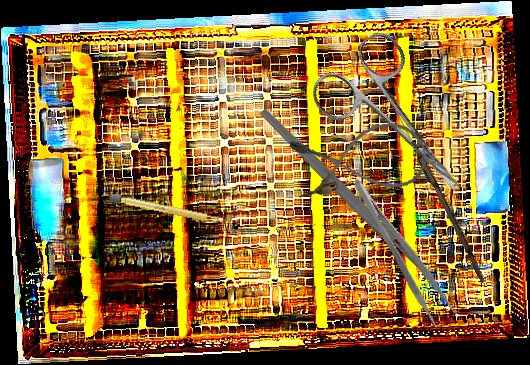Cannula: (289, 119, 430, 201)
Dressing Forceps: (349, 169, 459, 331)
Iris Scissors: (304, 25, 494, 225)
Scalpel Handle: (257, 106, 425, 273), (108, 193, 224, 226)
Surgical Spoon: (390, 107, 490, 284)
